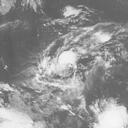cyclone: (39, 42, 87, 88)
